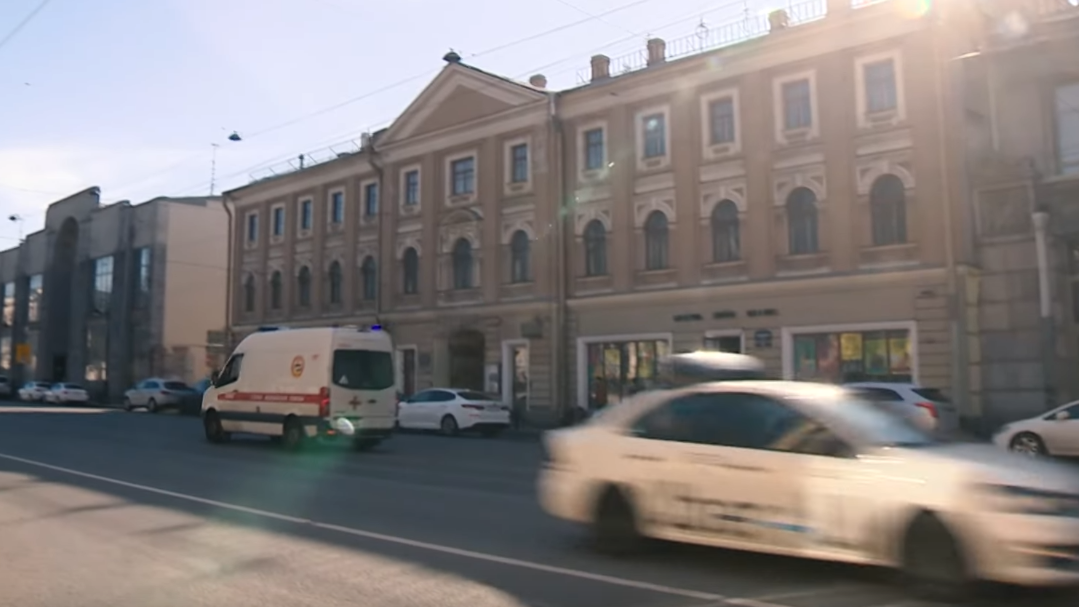ambulance: (198, 327, 398, 452)
non emergency car: (537, 350, 1076, 595), (1006, 295, 1079, 462), (839, 382, 962, 447), (398, 386, 509, 436), (120, 377, 193, 415), (42, 379, 87, 405), (14, 378, 43, 402)
